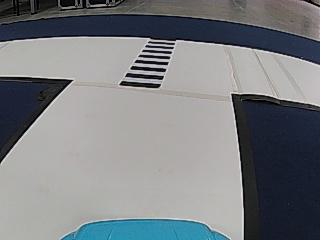CrossWalk: (115, 38, 185, 88)
